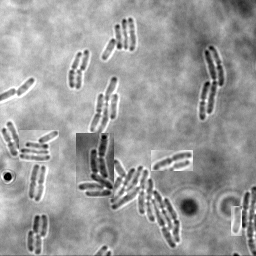Dividing: (151, 150, 193, 171), (67, 52, 81, 89), (1, 128, 18, 157), (34, 166, 47, 202), (28, 164, 39, 200), (239, 192, 249, 229)
Microcolony: (109, 158, 180, 249), (76, 133, 114, 198), (88, 76, 119, 139), (199, 45, 224, 121), (101, 18, 136, 61), (19, 130, 59, 162), (27, 214, 48, 255), (231, 206, 242, 236)
Rod: (5, 121, 23, 150), (16, 78, 34, 99), (79, 50, 89, 72), (73, 69, 82, 90)
